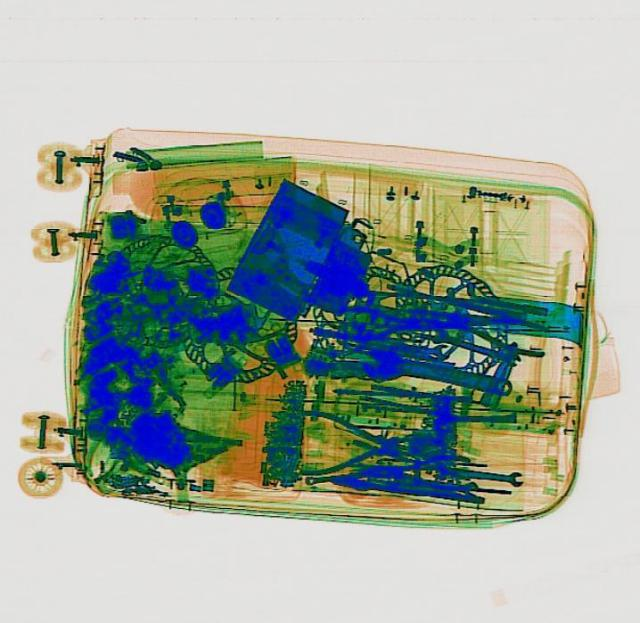Pliers: (292, 410, 408, 477)
Wrench: (358, 340, 514, 400), (425, 461, 523, 484)
